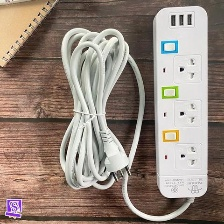three_eye_plug: (148, 1, 212, 209)
